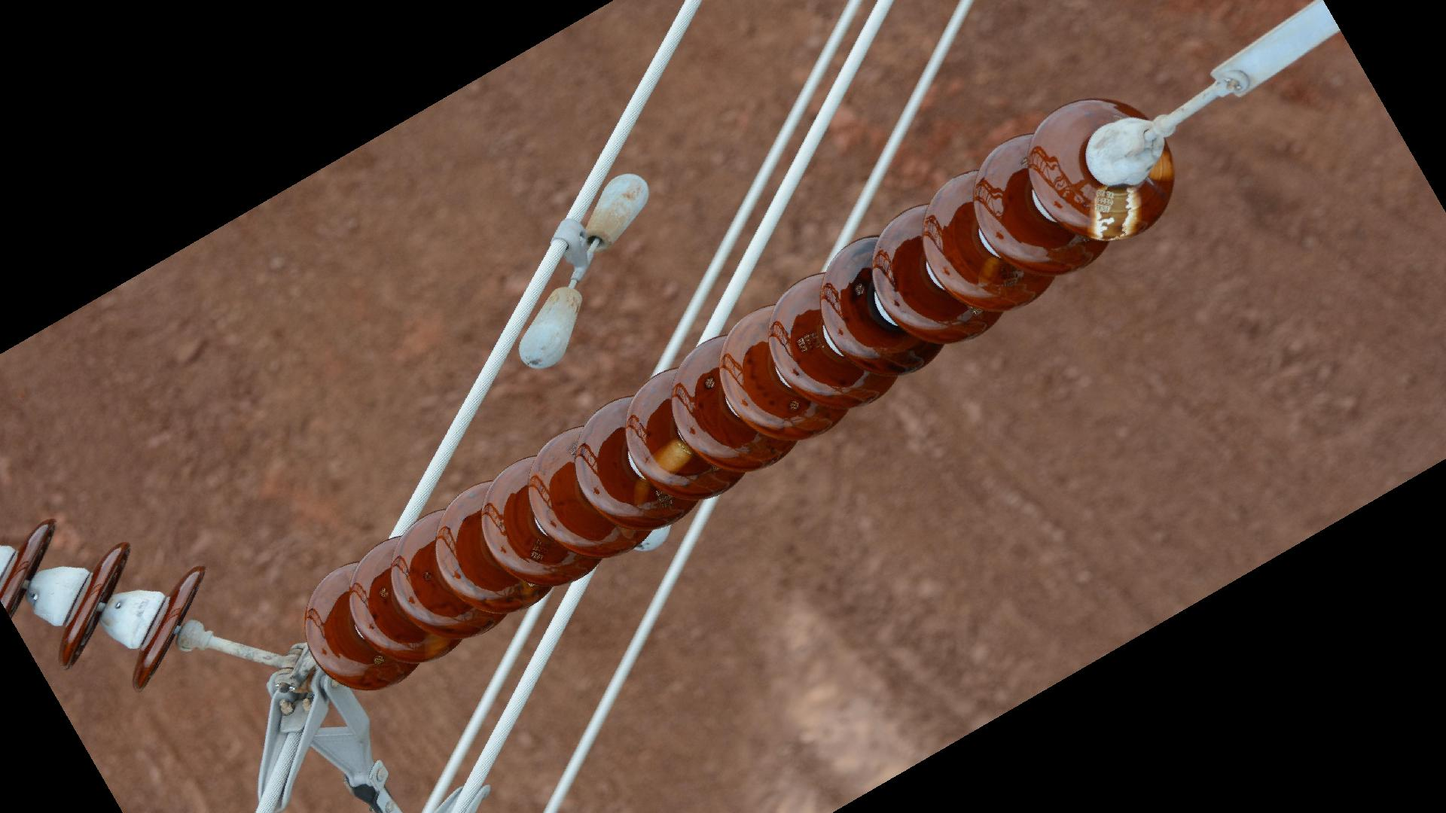insulator: (296, 93, 1179, 693), (1, 512, 212, 695)
insulator_flashover: (1084, 180, 1146, 245), (644, 436, 694, 480)
